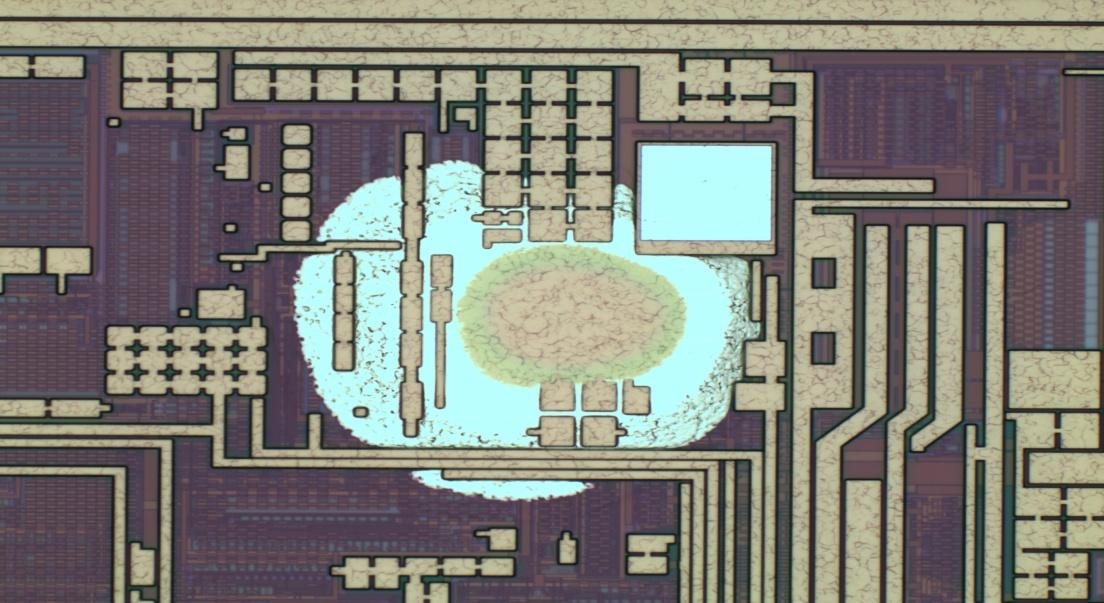BLOCK ETCH: (284, 152, 781, 511)
